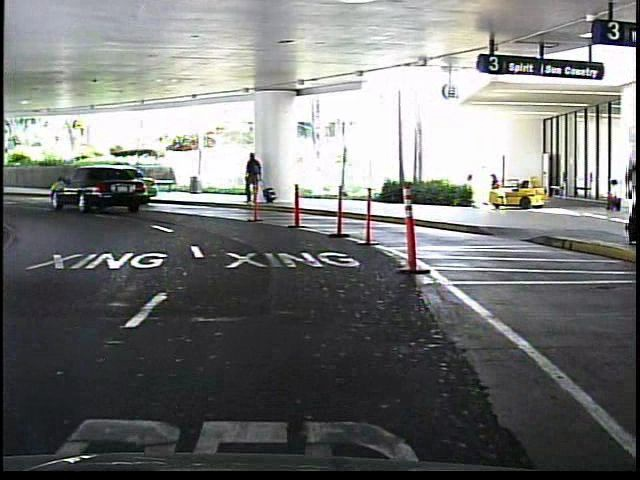person: (242, 151, 268, 210), (598, 174, 624, 213)
